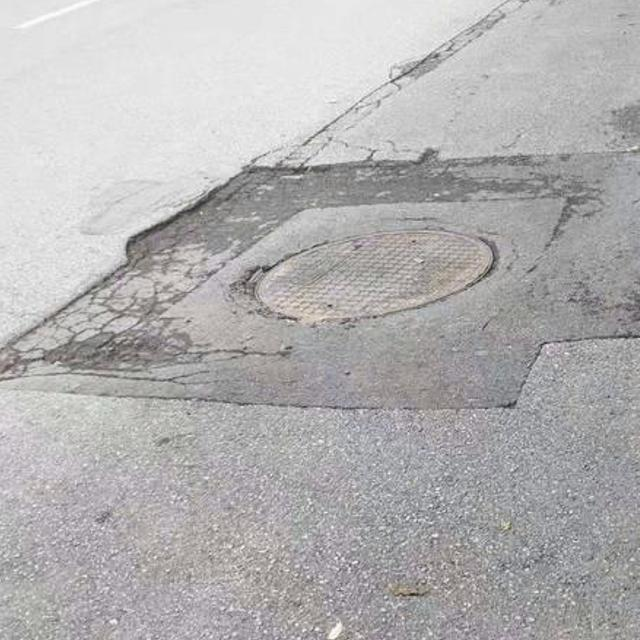circle: (67, 177, 640, 401)
